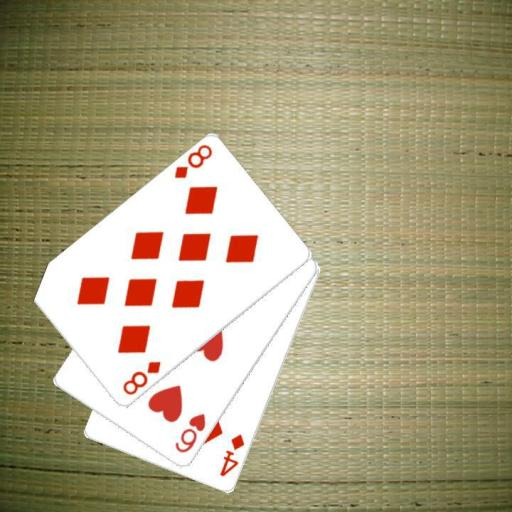4D: (217, 431, 247, 479)
6H: (171, 410, 208, 455)
8D: (119, 358, 163, 398), (171, 142, 214, 181)
